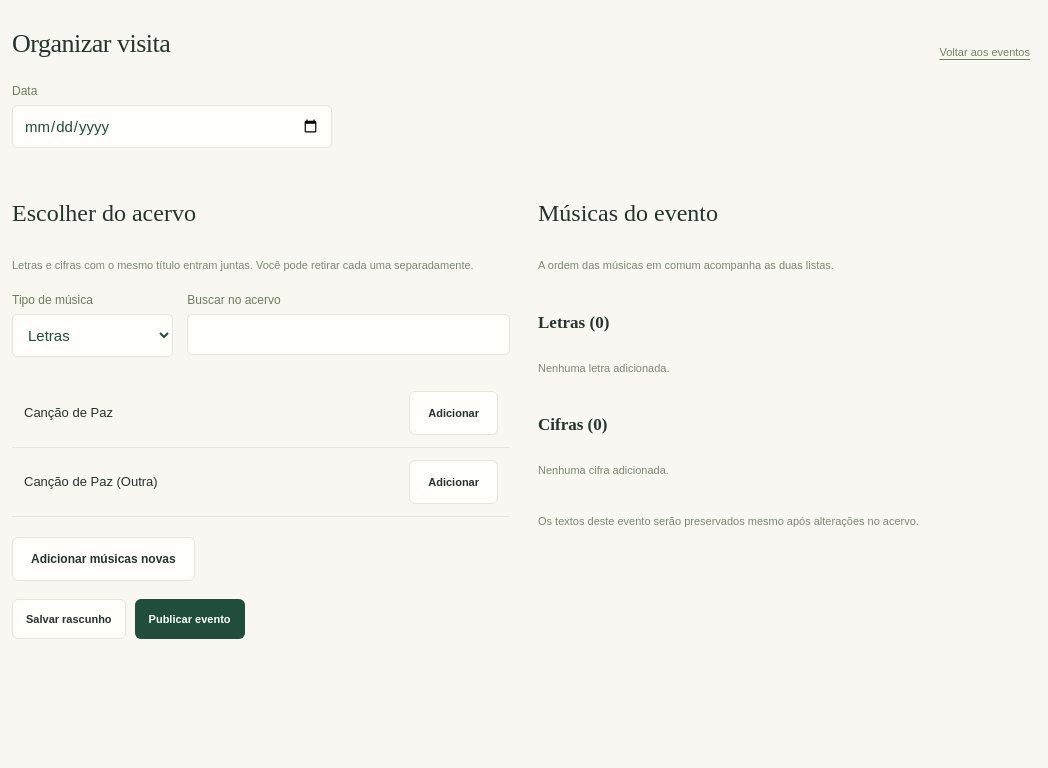
Scenario: pairs a chord with its published lyric using the full normalized title without duplicating an existing selection
Expected: the button with aria-label "Adicionar letra de Canção de Paz" is shown, [409, 391, 498, 435]
Select "Cifras" in the dropdown labelled "Tipo de música". click: (93, 335)
box: [12, 314, 173, 357]
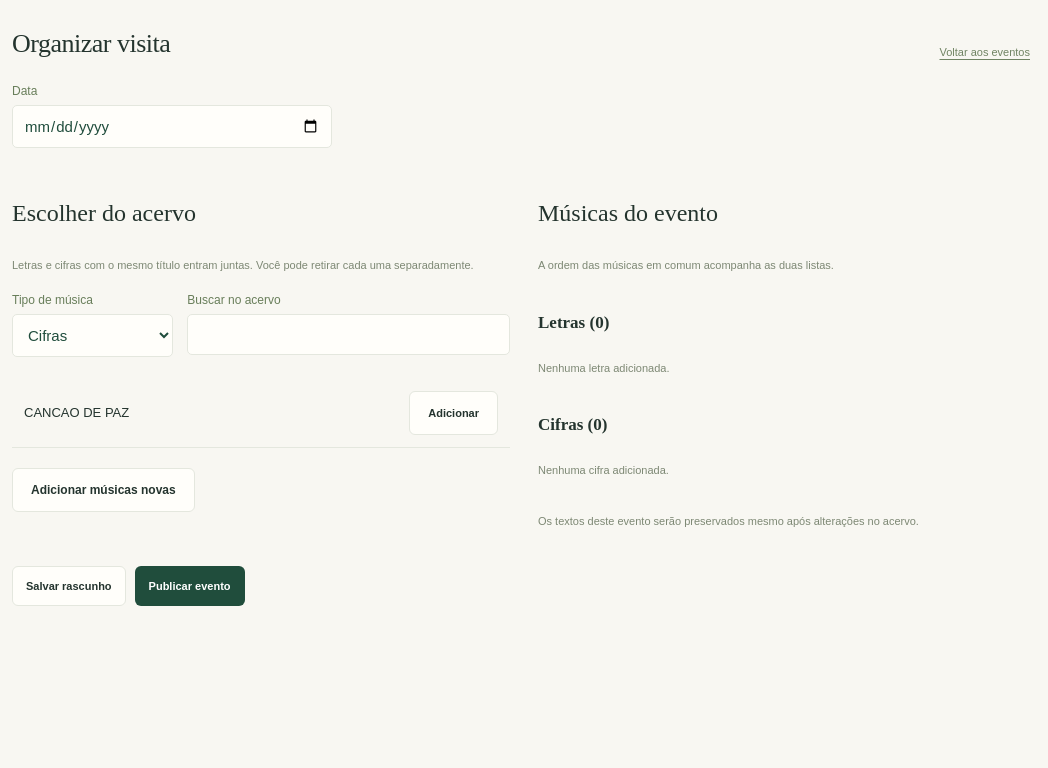
Click the button "Adicionar". click: click(454, 413)
box: [409, 391, 498, 435]
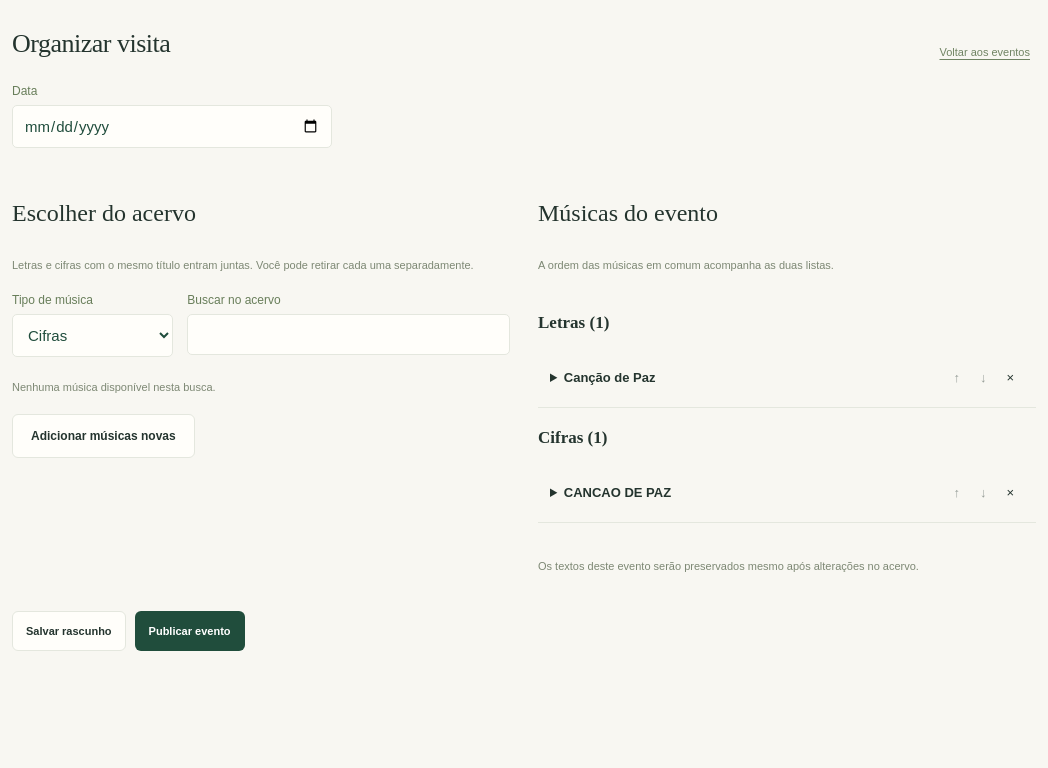
Expected: the button named "Retirar letra Canção de Paz" is shown, [996, 360, 1024, 395]
Expected: the heading "Letras (1)" is shown, [538, 313, 609, 332]
Click the button "×" in the row of "CANCAO DE PAZ". click: click(1010, 492)
box: [996, 475, 1024, 510]
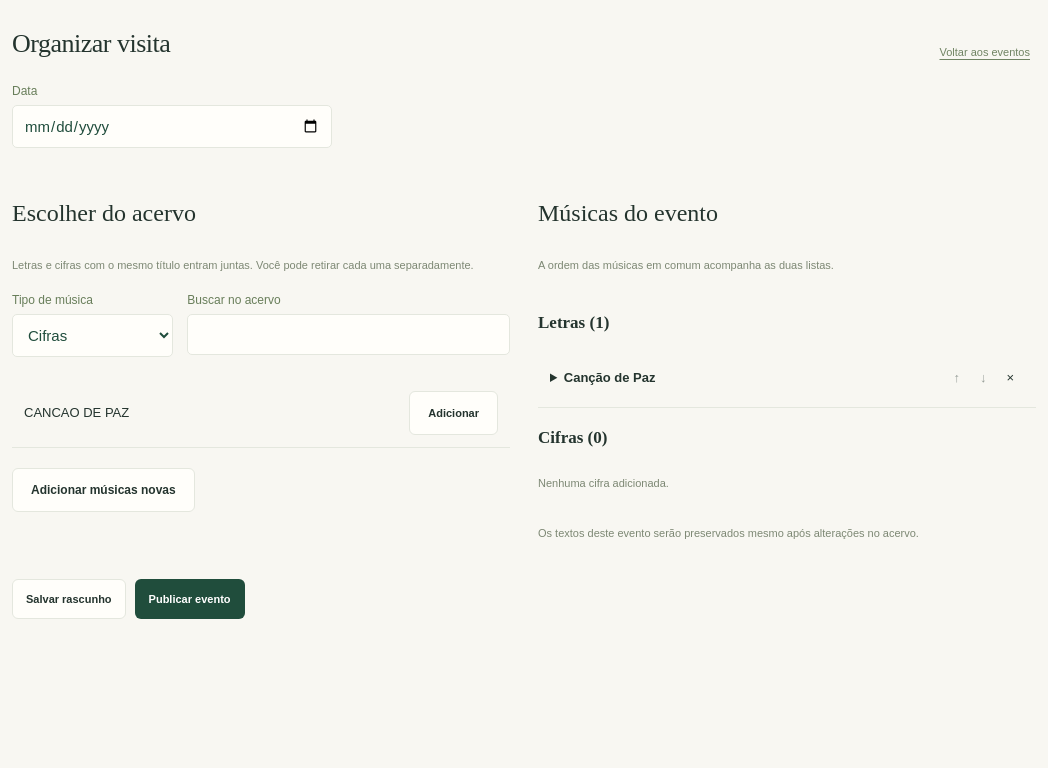
Expected: the button named "Retirar letra Canção de Paz" is shown, [996, 360, 1024, 395]
Click the button "Adicionar". click: click(454, 413)
box: [409, 391, 498, 435]
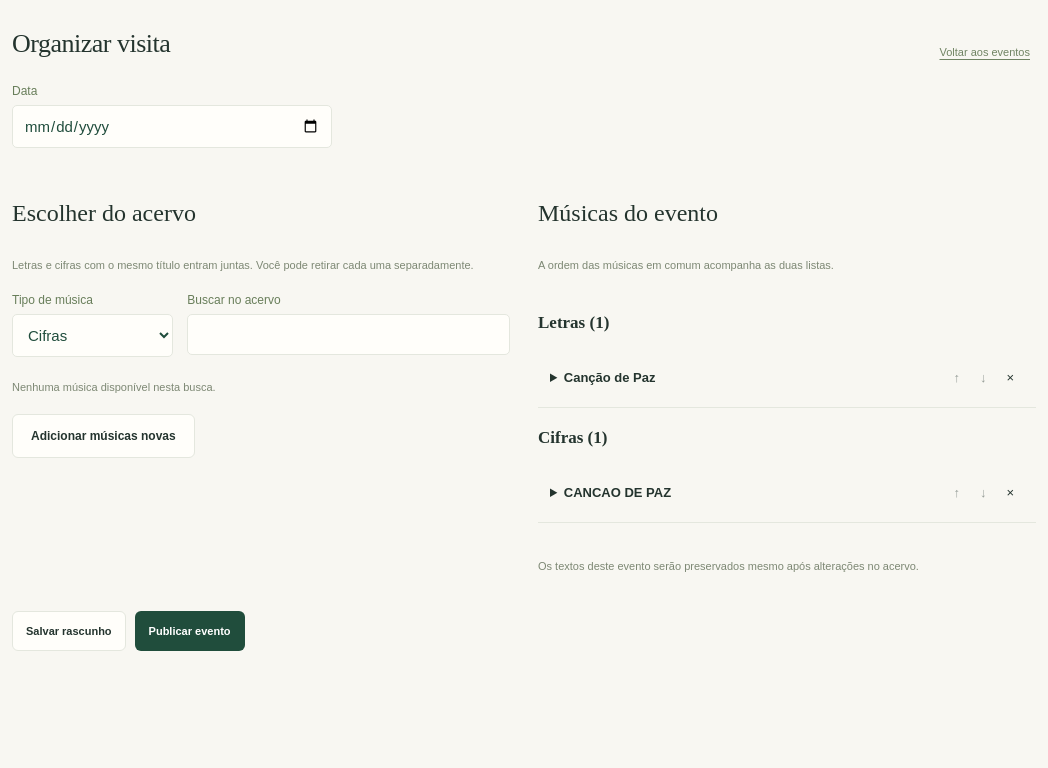
Expected: the heading "Letras (1)" is shown, [538, 313, 609, 332]
Expected: the heading "Cifras (1)" is shown, [538, 428, 607, 447]
